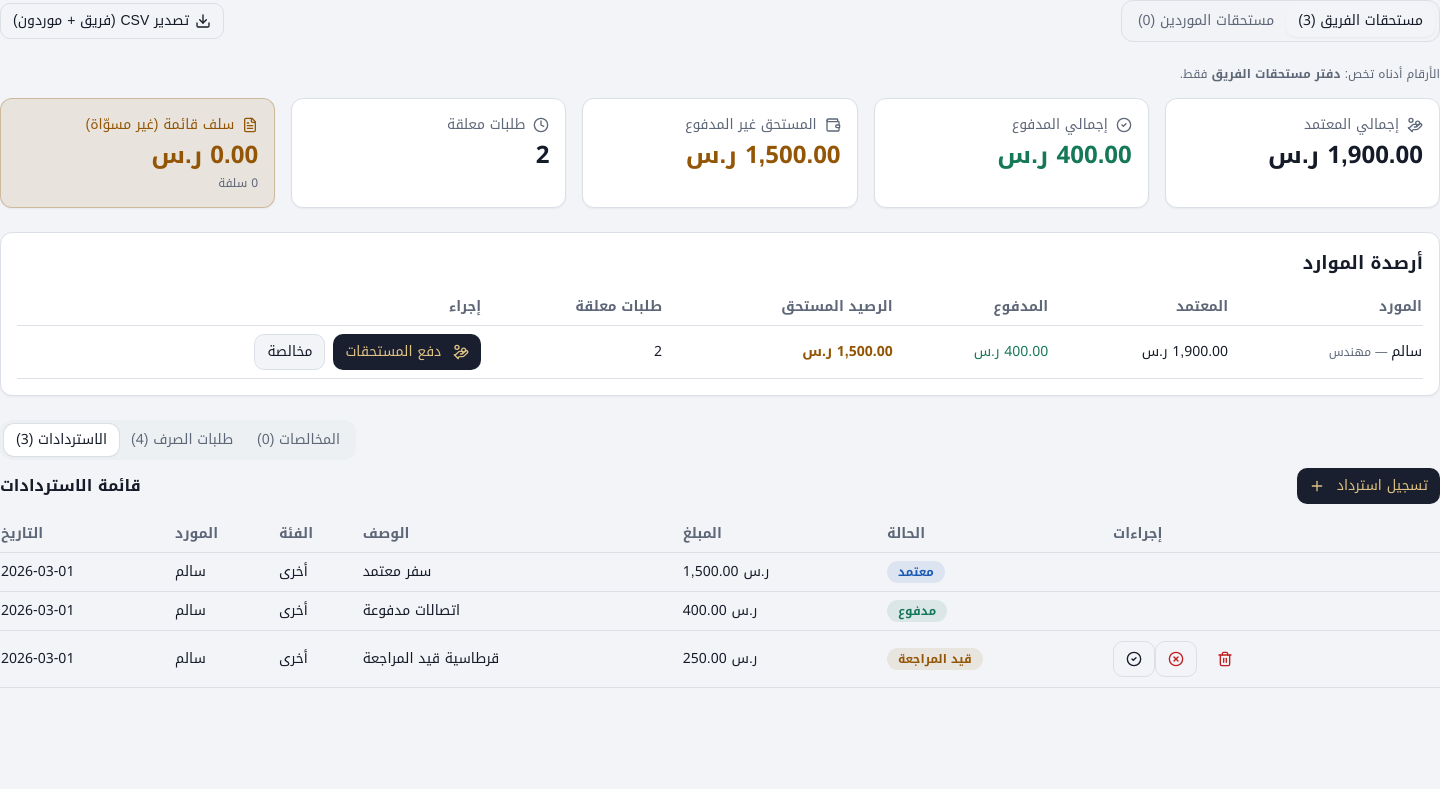
the edit-links dialog › recomputes an unpaid reimbursement request's amount from the rows now linked
The image size is (1440, 789).
Later steps or results of the test are not shown.
Press the mouse on the tab "طلبات الصرف (4)" at {"x": 182, "y": 440}, box top-left (119, 424), bottom-right (245, 456)
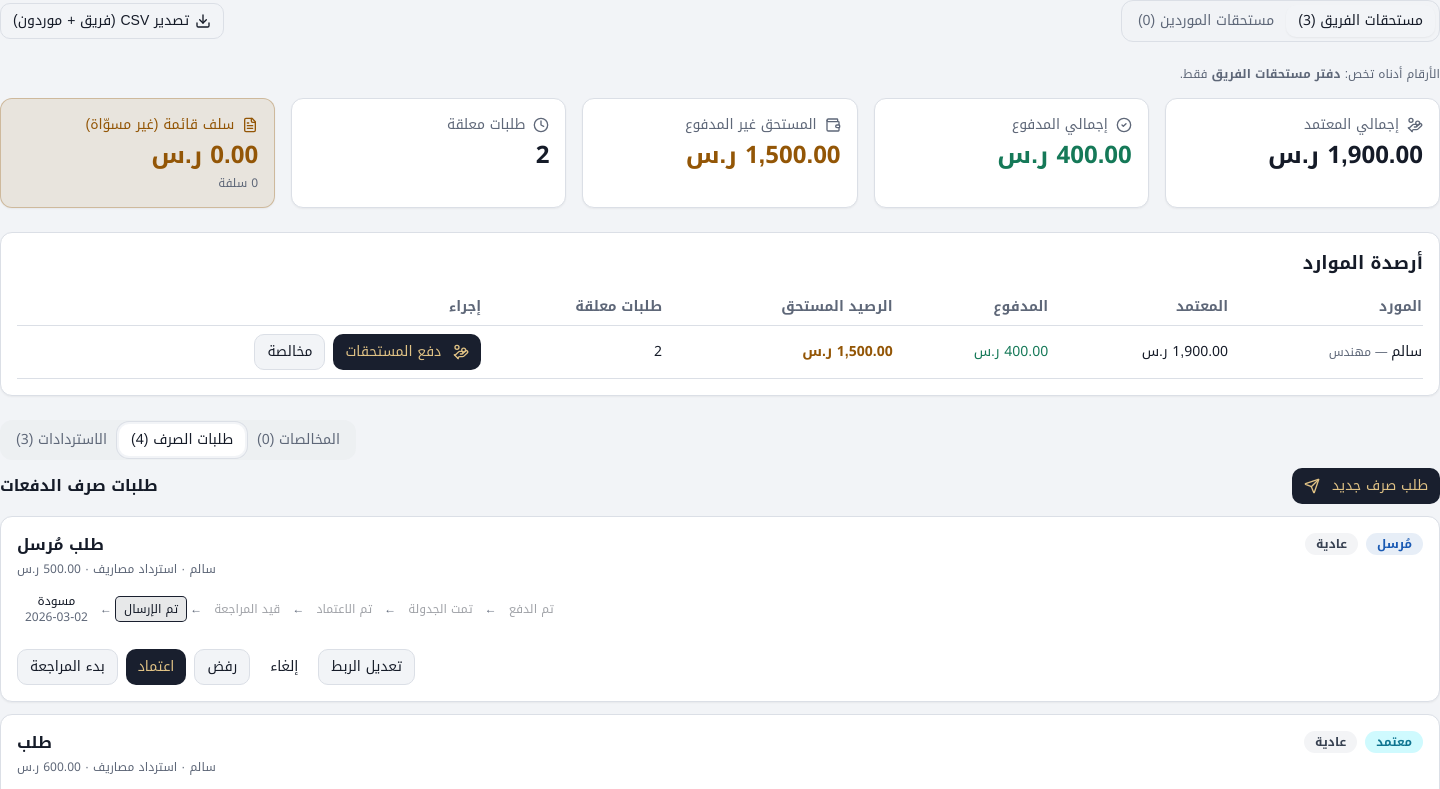
Click the tab "طلبات الصرف (4)" at {"x": 182, "y": 440}, box top-left (119, 424), bottom-right (245, 456)
Click the button "تعديل الربط" at {"x": 367, "y": 667}, box top-left (318, 649), bottom-right (415, 685)
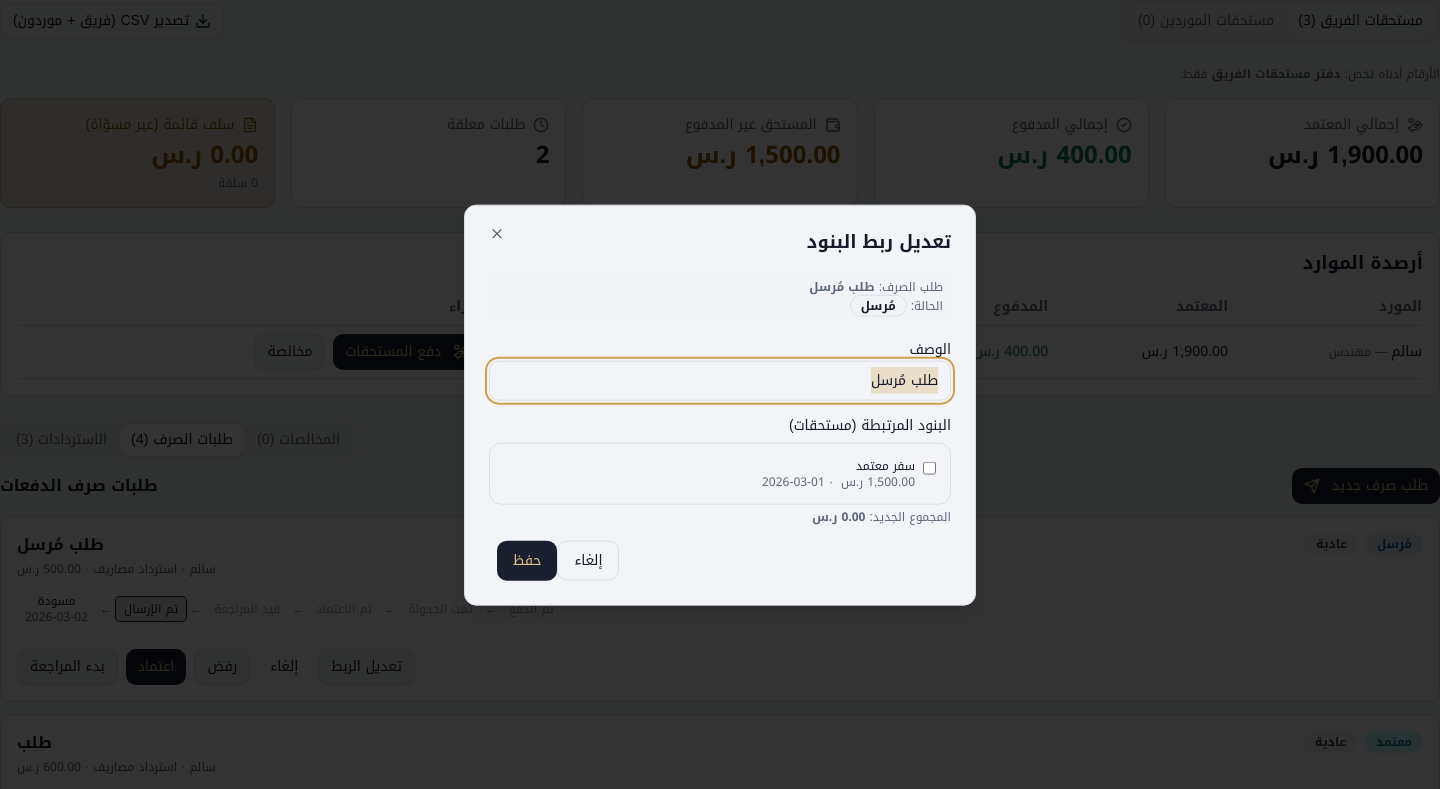
Click the checkbox labelled "سفر معتمد 1,500.00 ر.س · 2026-03-01" at {"x": 930, "y": 468}, box top-left (923, 461), bottom-right (936, 474)
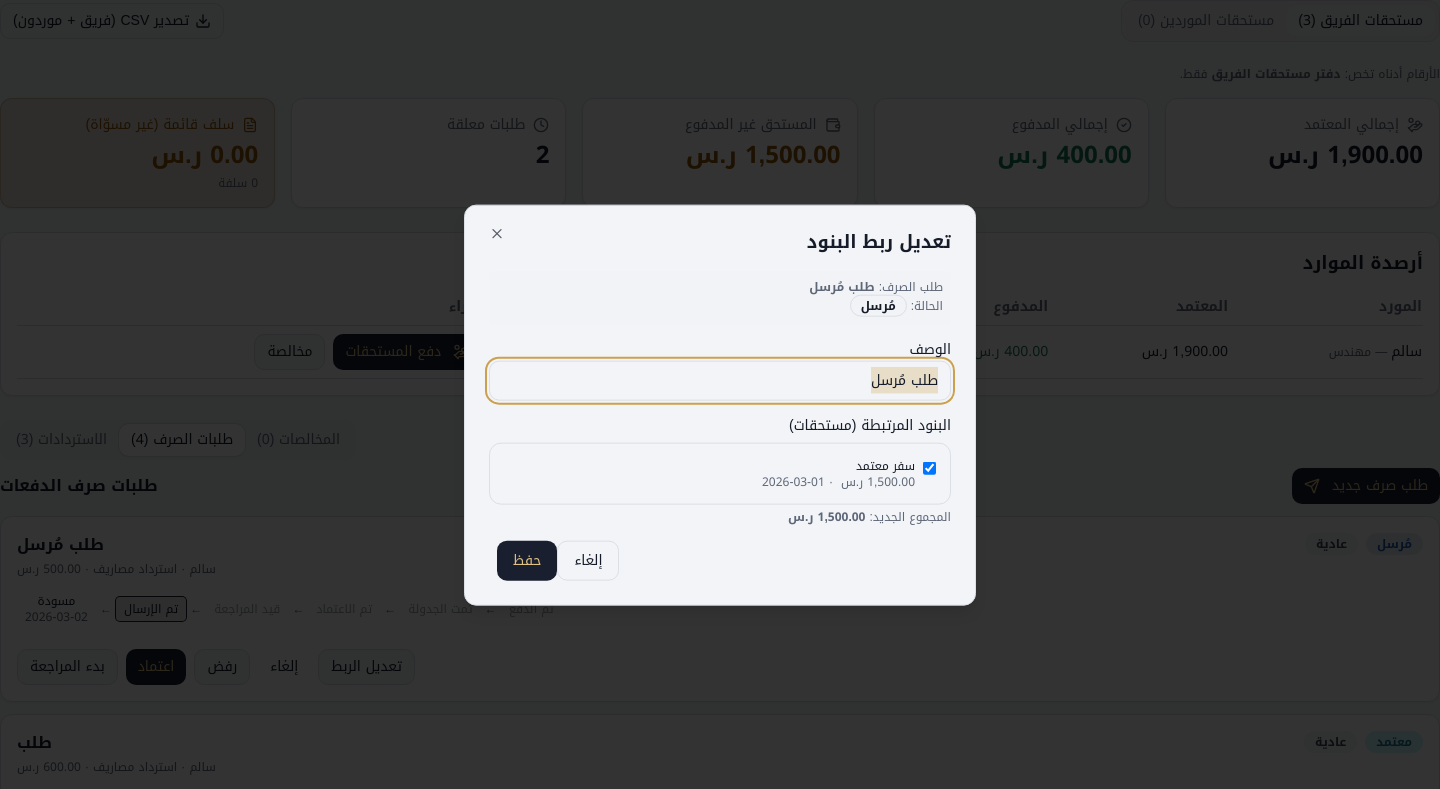
Expected: the text "المجموع الجديد: 1,500.00 ر.س" is shown, top-left (788, 505), bottom-right (951, 527)
